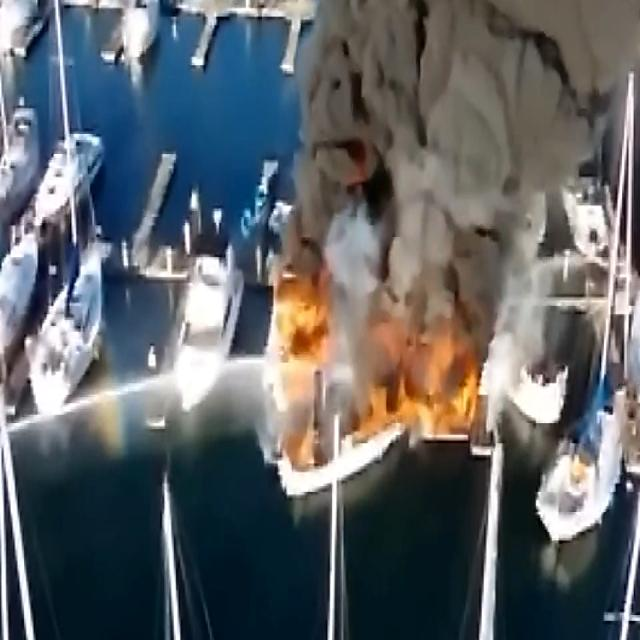fire: (264, 273, 338, 380), (408, 336, 478, 428)
smoke: (306, 5, 528, 244)
